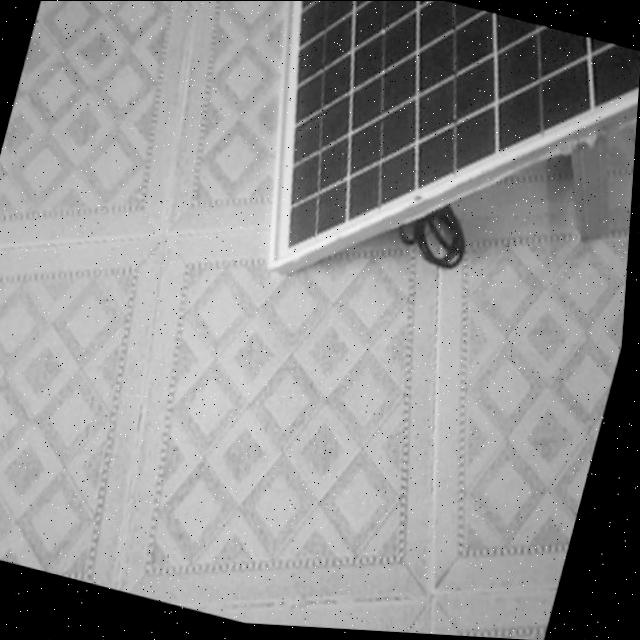Normal Solar Panel: (220, 1, 640, 357)
